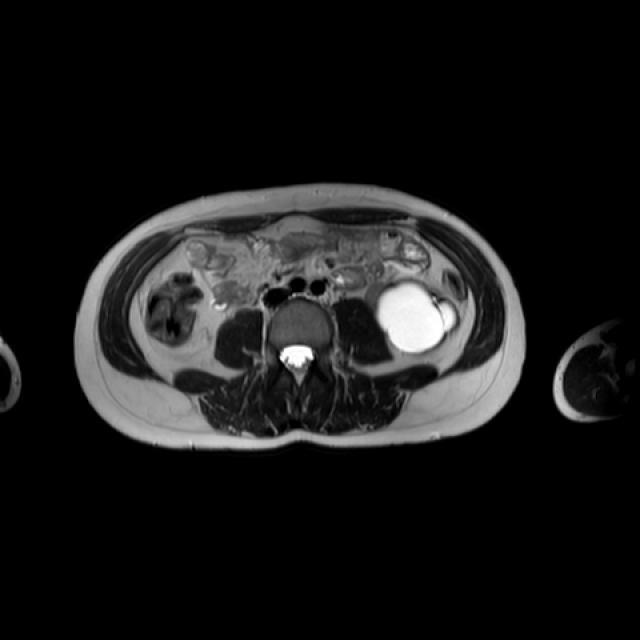sol: (363, 278, 459, 354)
